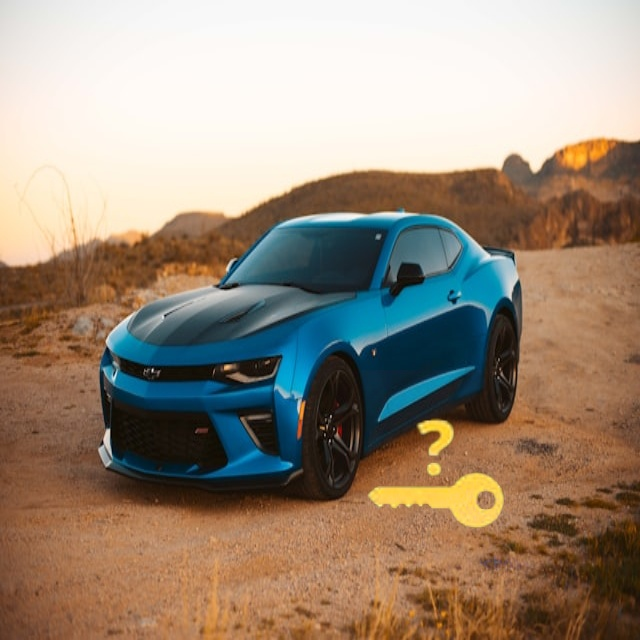symbol: (330, 370, 540, 580), (469, 5, 593, 129)
